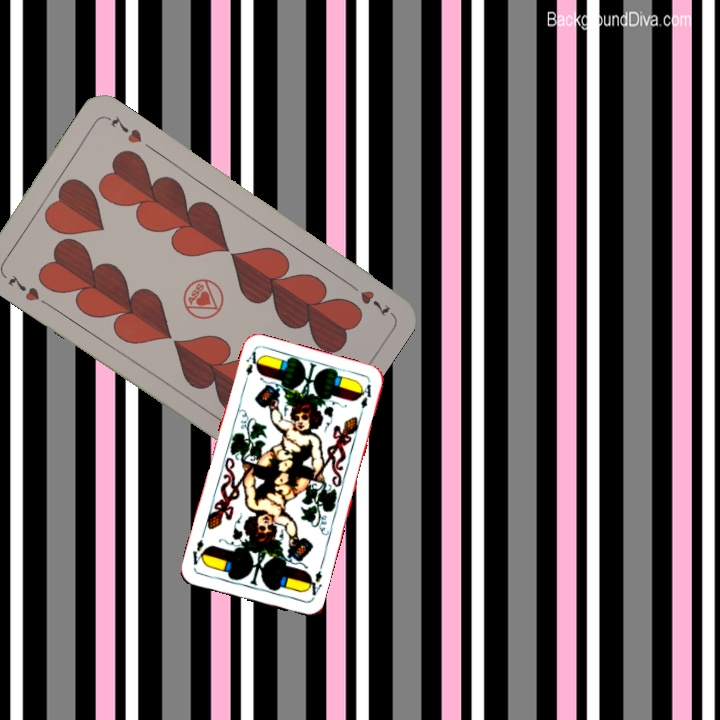EA: (240, 347, 262, 387), (302, 566, 325, 602)
H7: (343, 277, 394, 319), (4, 270, 51, 308)
